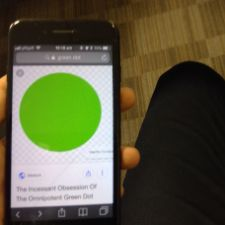focus: (17, 71, 106, 153)
